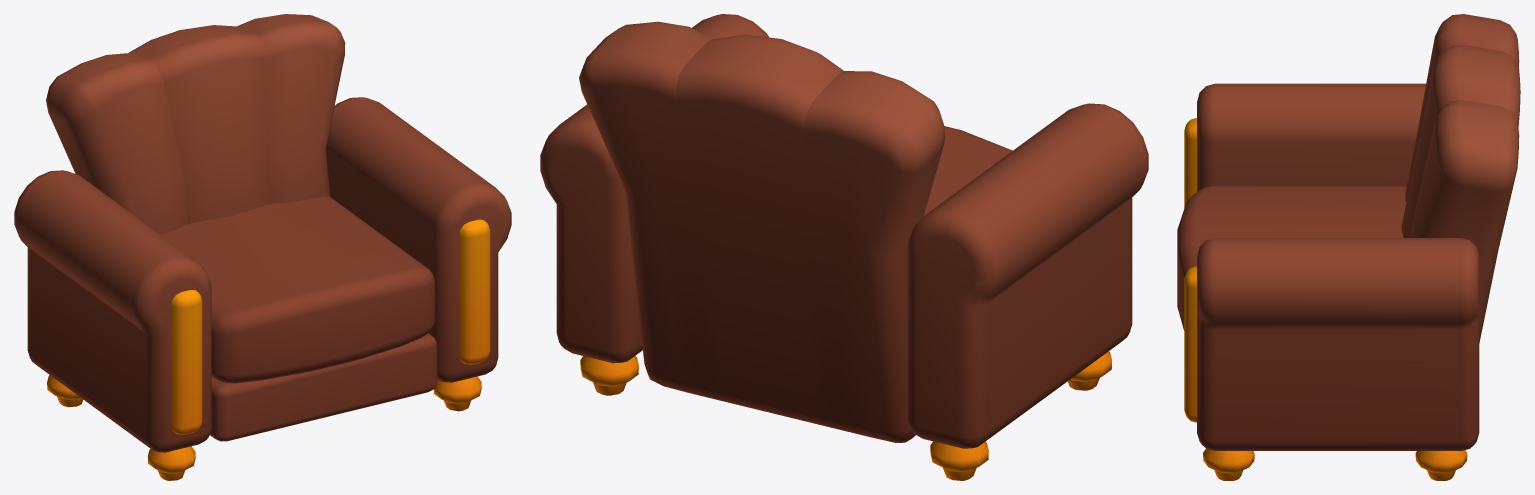
Rendered from Armchair_001.glb.
3 views of the same model, side by side, from view 1: azimuth 30°, elevation 25°; view 2: azimuth 150°, elevation 25°; view 3: azimuth 270°, elevation 25° (orthographic). The views are drawn at different scales.
Parts seen in each view (by area): view 1: Armchair_001; view 2: Armchair_001; view 3: Armchair_001.
Boxes of the visible parts, x1,y1,x2,y2 form: Armchair_001: [14, 14, 511, 480]; Armchair_001: [540, 14, 1148, 480]; Armchair_001: [1177, 14, 1520, 480].
Size of the model in its own units: 1.27 by 1.05 by 0.9481.
Materials: 1 (1 with a texture image).
